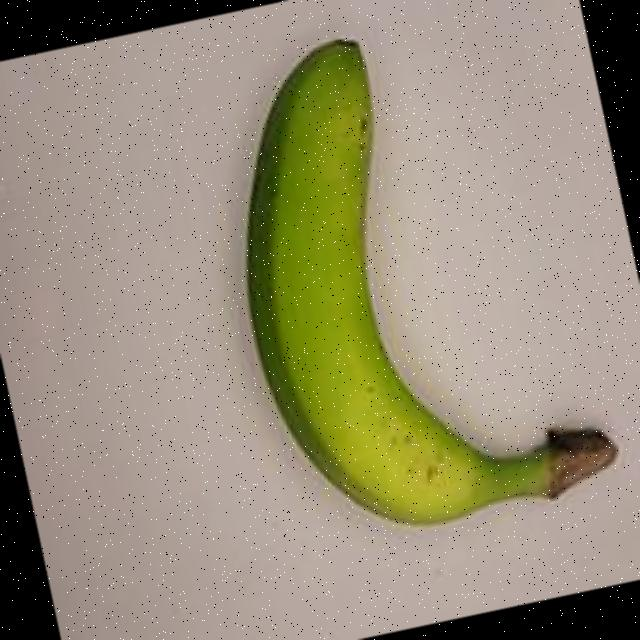Unripe: (176, 0, 639, 589)
